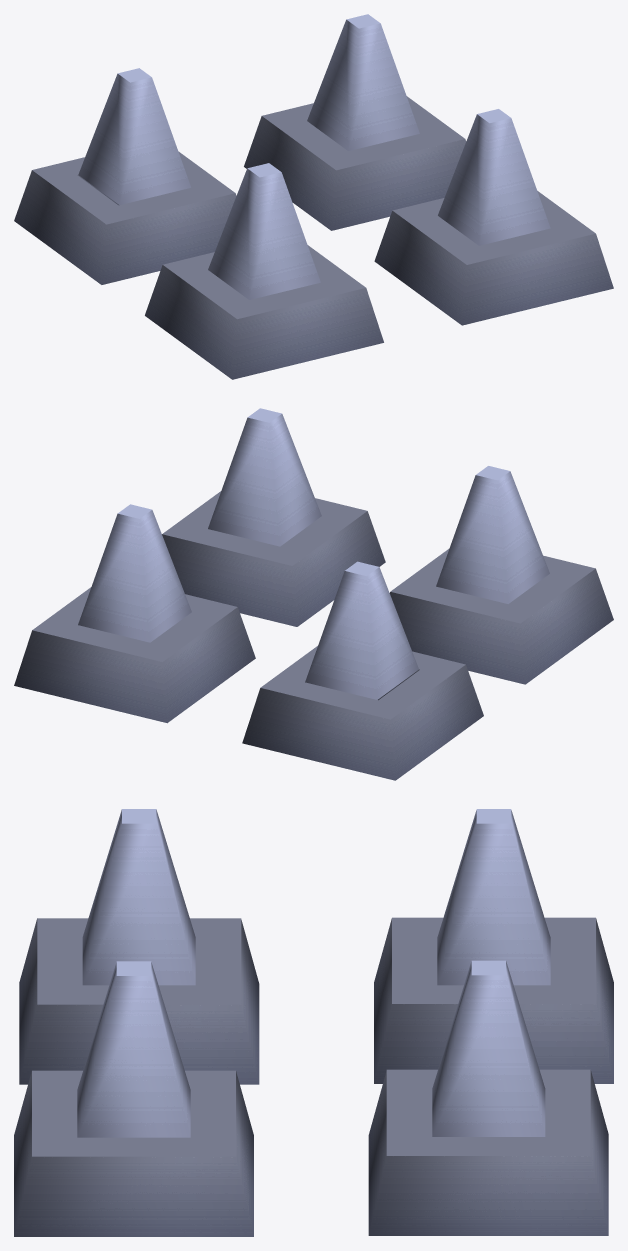
File: trap-spikes.glb
3 views of the same model, one above another, from view 1: azimuth 30°, elevation 25°; view 2: azimuth 150°, elevation 25°; view 3: azimuth 270°, elevation 25° (orthographic). The views are drawn at different scales.
Visible parts, largest first — view 1: trap-spikes, spikes; view 2: trap-spikes, spikes; view 3: trap-spikes, spikes.
Part boxes in pixels (x1,y1,x2,y2): trap-spikes: [14, 96, 613, 379]; spikes: [78, 14, 550, 299]; trap-spikes: [14, 491, 613, 780]; spikes: [78, 408, 549, 699]; trap-spikes: [14, 917, 613, 1236]; spikes: [77, 809, 550, 1137].
Size of the model in its own units: 0.6392 by 0.255 by 0.6375.
1 material, 1 textured.
